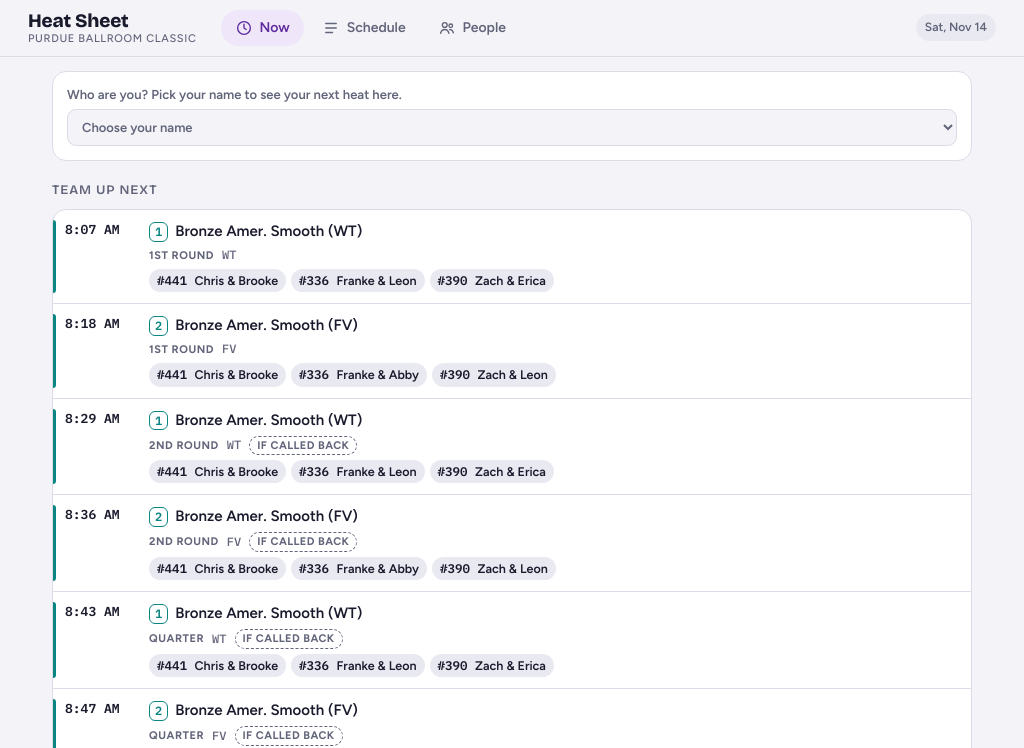
Scenario: Now tab › before the day: asks who you are, then shows your first heat
This screenshot has width=1024, height=748.
Select "Chris" in the dropdown labelled "Who are you? Pick your name to see your next heat here.": (512, 127) [67, 109, 957, 146]
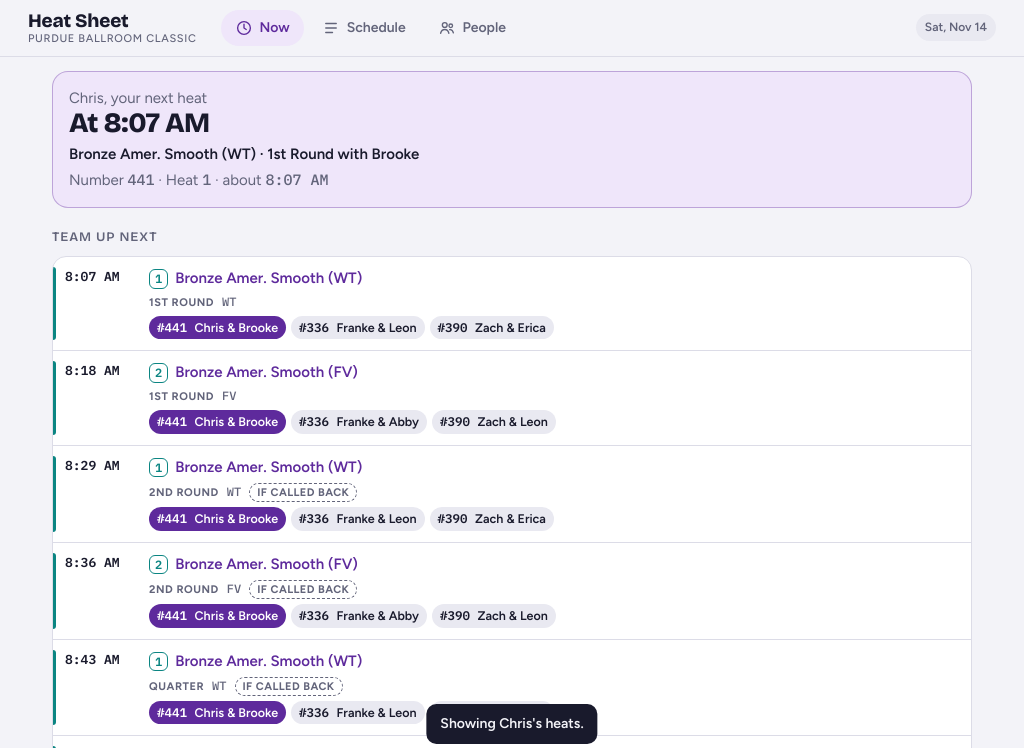
Result: the text "Chris, your next heat" is shown at [69, 89, 207, 107]
Result: the text "At 8:07 AM" is shown at [69, 106, 210, 140]
Result: the text "Bronze Amer. Smooth (WT) · 1st Round with Brooke" is shown at [69, 145, 419, 163]
